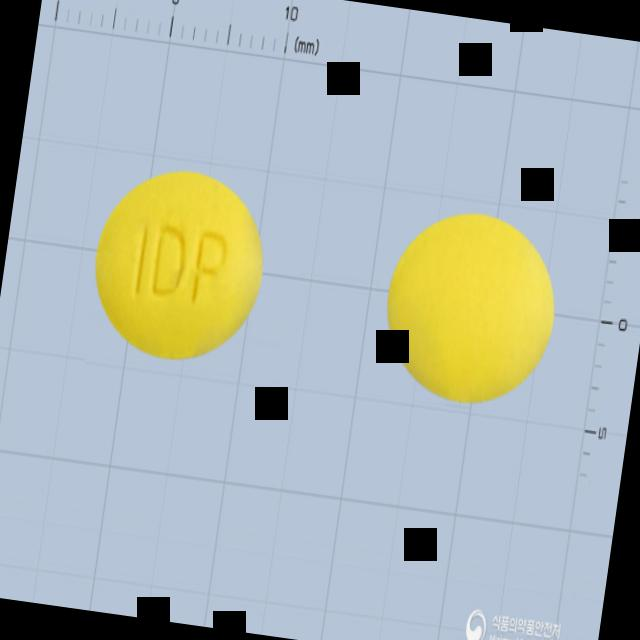Ciracle: (78, 156, 280, 375)
